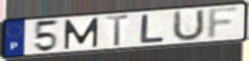5: (32, 19, 60, 53)
F: (205, 5, 243, 41)
L: (139, 14, 167, 45)
M: (63, 17, 101, 51)
T: (104, 14, 132, 48)
U: (171, 8, 207, 44)
